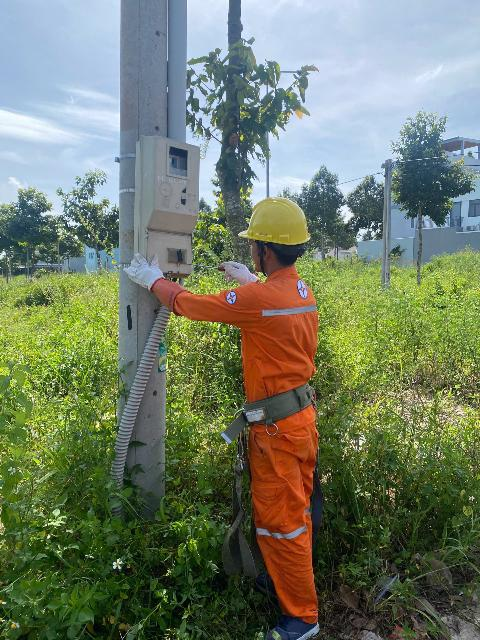gloves: (122, 248, 169, 290), (217, 251, 263, 289)
harness: (221, 374, 334, 429)
helmet: (232, 192, 322, 250)
shoes: (242, 602, 332, 640), (253, 562, 301, 599)
